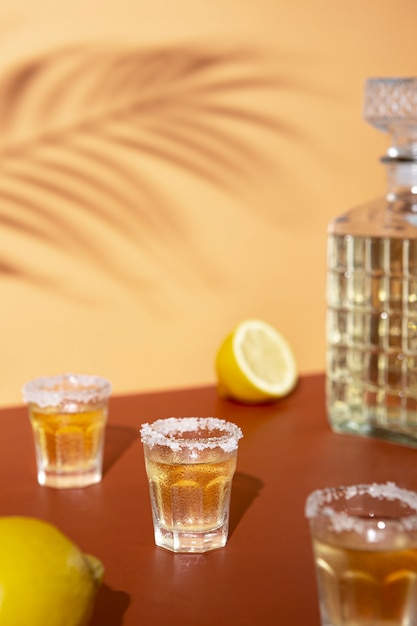alcohol: (330, 73, 417, 448), (304, 482, 417, 626), (138, 416, 242, 553), (24, 373, 110, 490)
